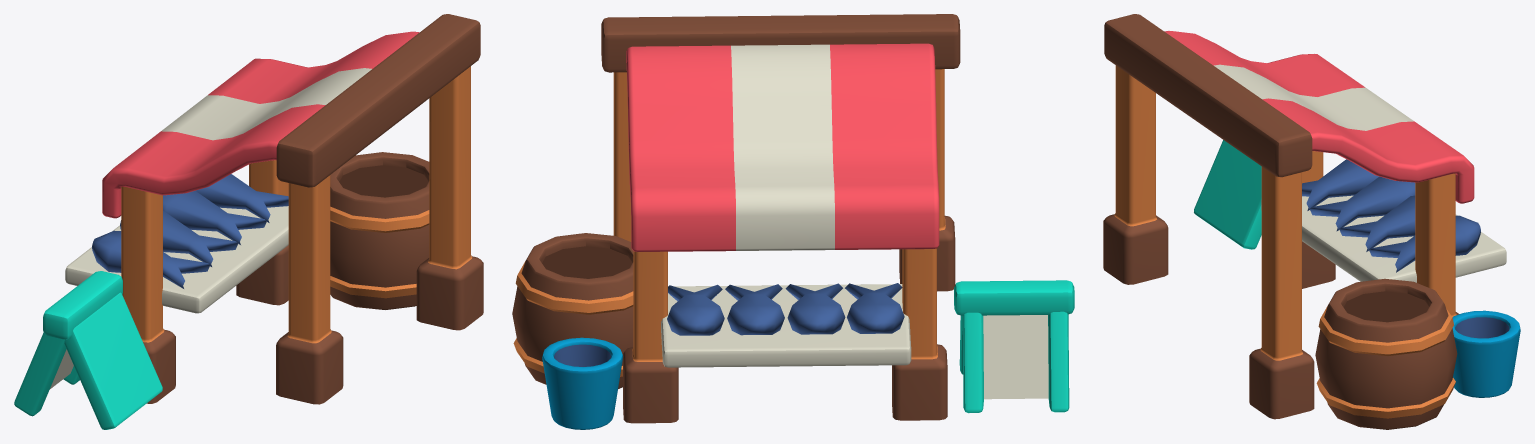
Rendered from Shop.fbx.
3 views of the same model, side by side, from view 1: azimuth 30°, elevation 25°; view 2: azimuth 150°, elevation 25°; view 3: azimuth 270°, elevation 25° (orthographic). The views are drawn at different scales.
Parts seen in each view (by area): view 1: Shop2; view 2: Shop2; view 3: Shop2.
Boxes of the visible parts, box(x1,y1,x2,y2) form: Shop2: box(14, 14, 483, 429); Shop2: box(512, 14, 1074, 429); Shop2: box(1103, 14, 1520, 429).
Size of the model in its own units: 4.76 by 2.8 by 3.7.
